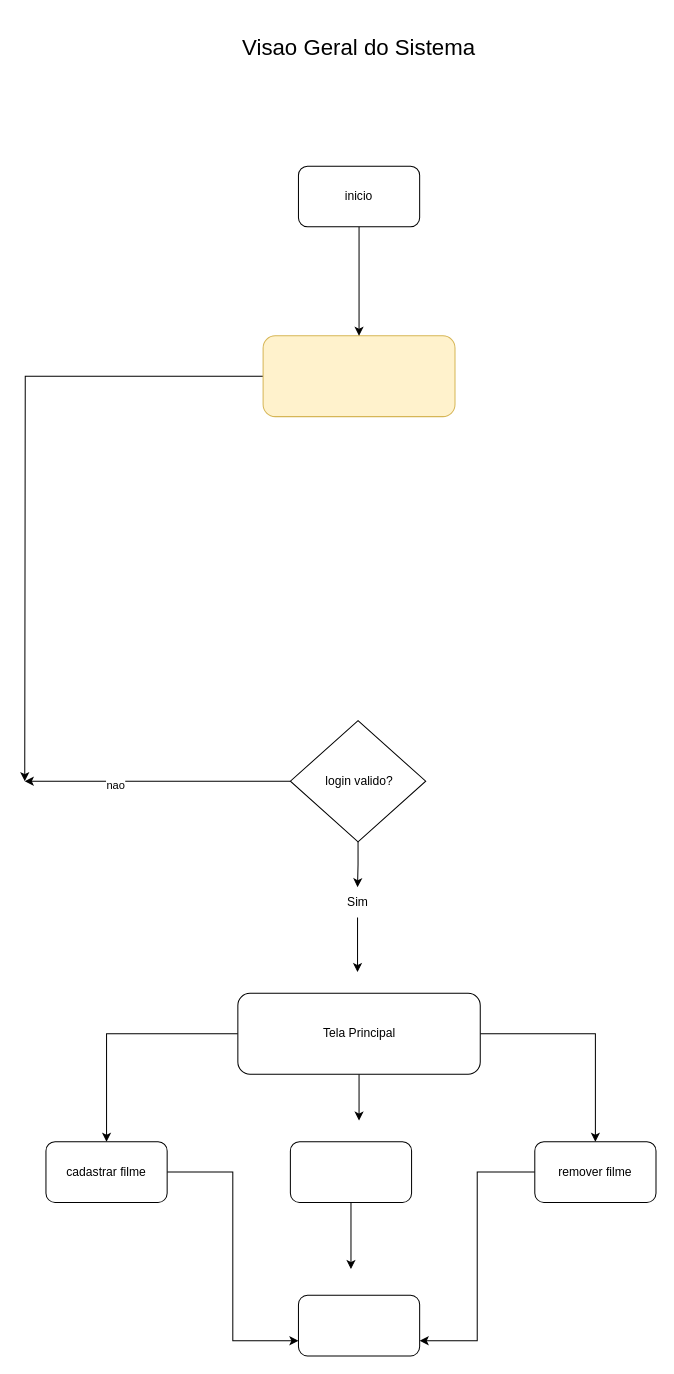
The diagram is 674 pixels wide and 1374 high, and some of its shapes have lost their labels. The shapes that lost their labels are listed below. From the top down, each one's centre as x and y in pixels, then its label:
(358,376): tela de login informar e-mail e senha
(350,1171): editar filme
(358,1325): atualiza a lista de filmes
